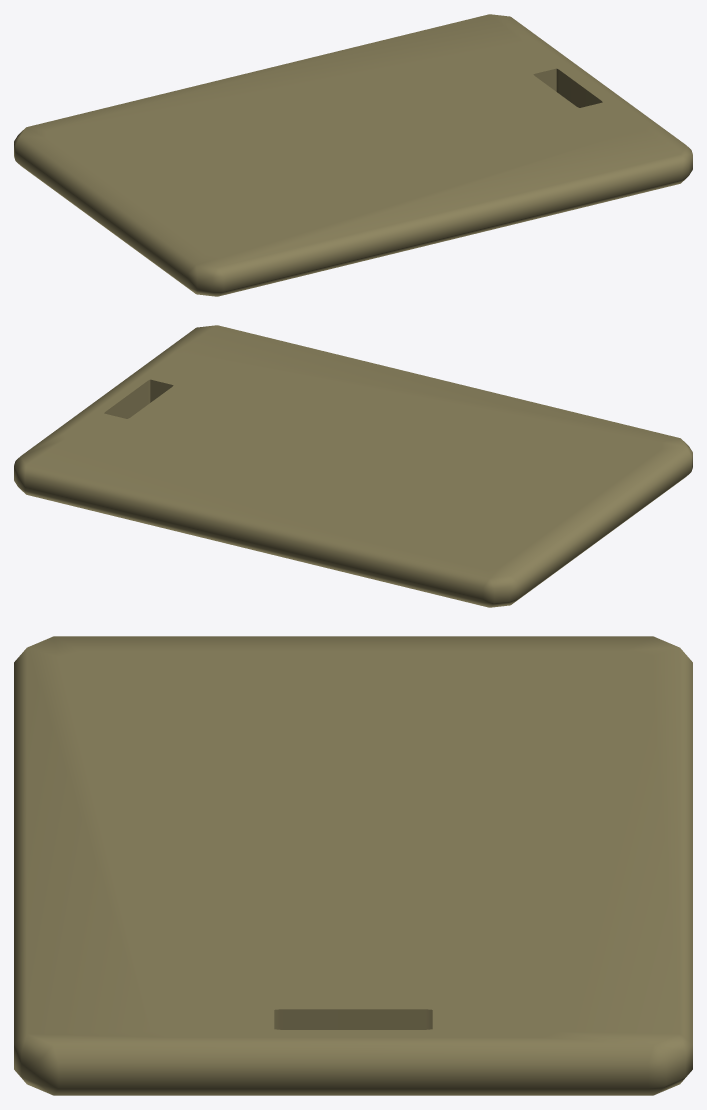
File: CuttingBoardGeo.fbx
The picture shows the model from 3 angles, top to bottom: view 1: azimuth 30°, elevation 25°; view 2: azimuth 150°, elevation 25°; view 3: azimuth 270°, elevation 25°; orthographic projection. The views are drawn at different scales.
Parts seen in each view (by area): view 1: CuttingBoardGeo; view 2: CuttingBoardGeo; view 3: CuttingBoardGeo.
Part boxes in pixels (bbox=[...]): CuttingBoardGeo: bbox=[14, 14, 692, 296]; CuttingBoardGeo: bbox=[14, 325, 692, 607]; CuttingBoardGeo: bbox=[14, 636, 692, 1095].
Size of the model in its own units: 94.82 by 5.32 by 64.87.
